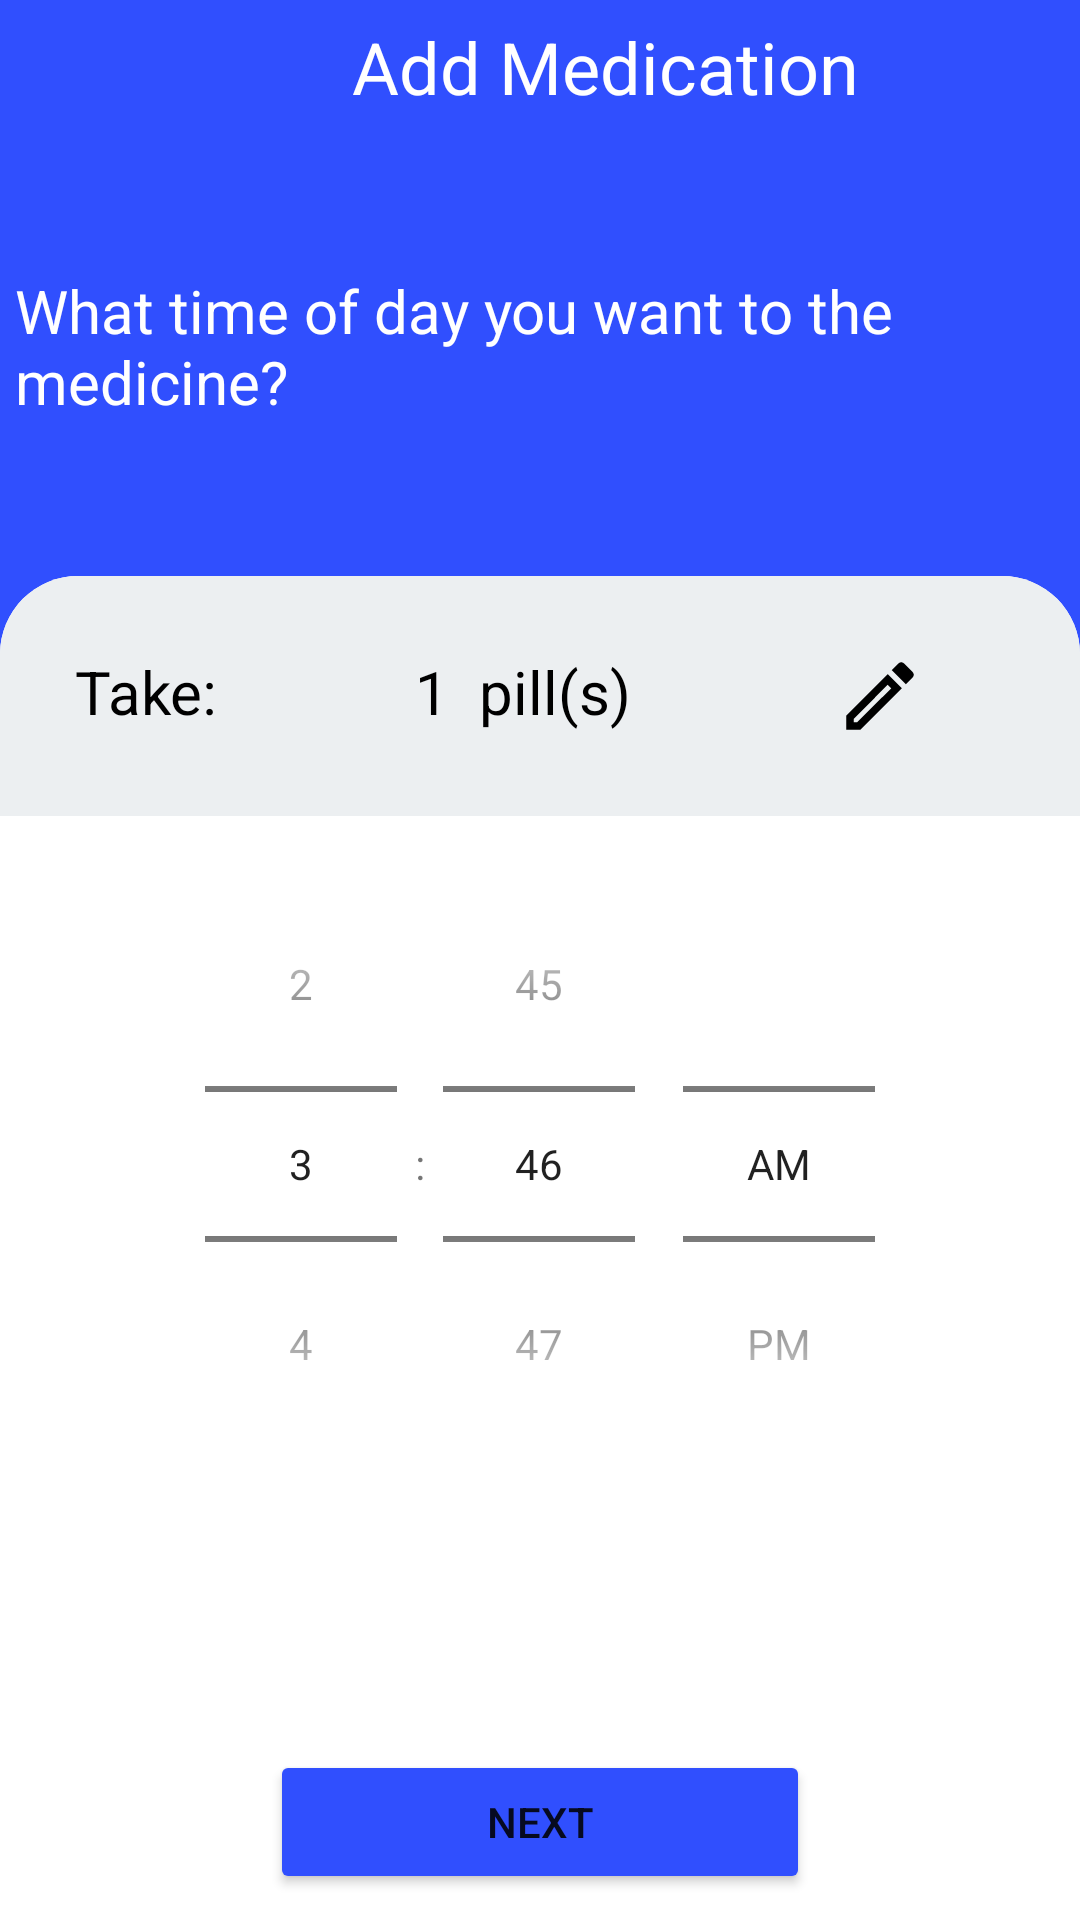

Where icons sit on this 1080 x 1920 app screen, as [x1,y1,x2,y2]:
edit: [846,662,914,730]
